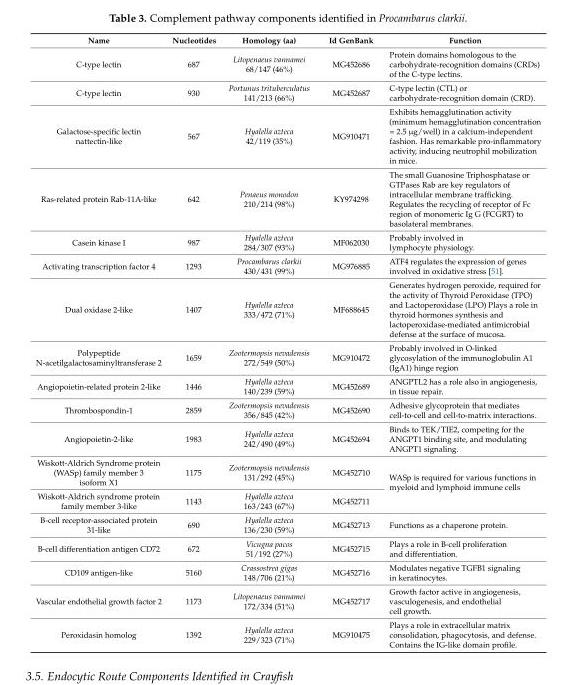table: (34, 34, 540, 648)
table column: (380, 34, 540, 648), (34, 34, 166, 648), (221, 34, 318, 648), (318, 34, 380, 648), (166, 34, 221, 648)
table column header: (34, 34, 540, 46)
table row: (34, 104, 540, 167), (34, 277, 540, 340), (34, 167, 540, 229), (34, 46, 540, 80), (34, 421, 540, 455), (34, 583, 540, 617), (34, 340, 540, 373), (34, 455, 540, 488), (34, 617, 540, 648), (34, 80, 540, 104), (34, 229, 540, 253), (34, 253, 540, 277), (34, 373, 540, 397), (34, 397, 540, 421), (34, 488, 540, 512), (34, 512, 540, 536), (34, 536, 540, 560), (34, 560, 540, 583), (34, 34, 540, 46)
table spanning cell: (380, 455, 540, 512)
